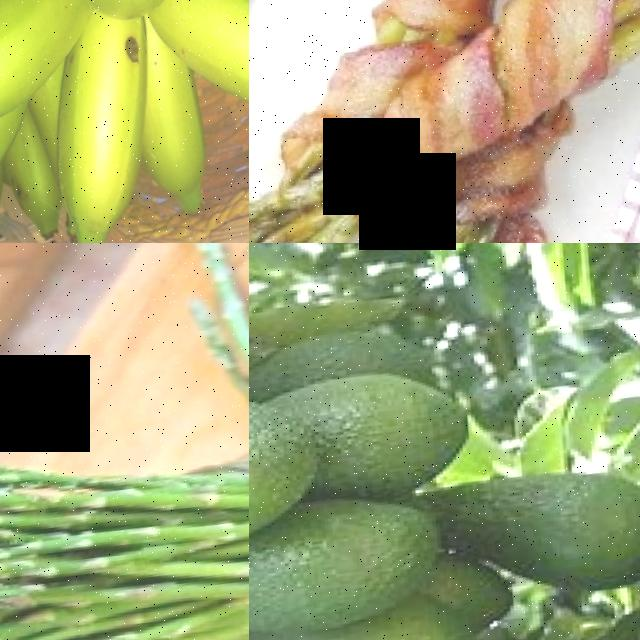asparagus: (0, 419, 249, 640)
avocado: (403, 417, 640, 625), (249, 350, 492, 521), (249, 480, 466, 640), (249, 312, 445, 401), (249, 381, 337, 564), (249, 583, 507, 640)
banana: (0, 0, 249, 243)
